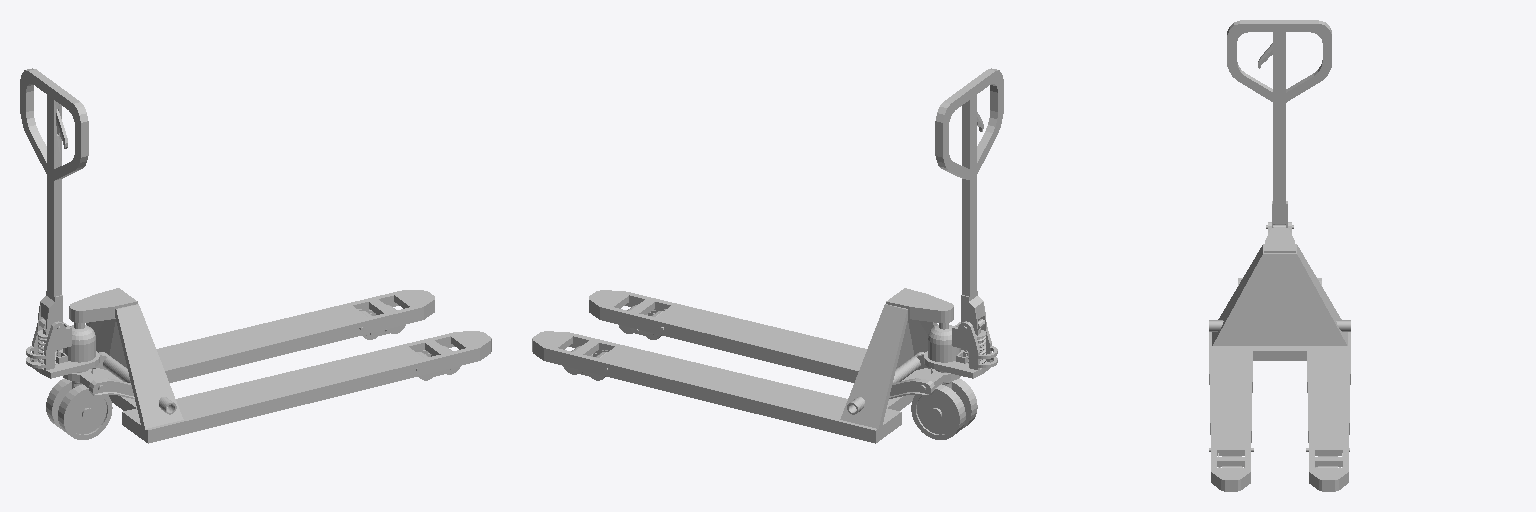
robot.urdf — pallet_truck:
<robot name="pallet_truck" version="1.0">
  <link name="base_link">
    <collision name="pallet_truck_lp_collision">
      <origin rpy="0.00000 0.00000 0.00000" xyz="-0.01780 -0.00204 0.61228"/>
      <geometry>
        <box size="1.48821 0.49089 1.19758"/>
      </geometry>
    </collision>
    <inertial>
      <inertia ixx="4.18793" ixy="-0.00000" ixz="0.00000" iyy="9.12244" iyz="0.00000" izz="6.13940"/>
      <origin rpy="0.00000 0.00000 0.00000" xyz="-0.01780 -0.00204 0.61228"/>
      <mass value="30.00000"/>
    </inertial>
    <visual name="pallet_truck_lp">
      <material name="Material.001"/>
      <origin rpy="0.00000 0.00000 0.00000" xyz="0.00000 0.00000 0.00000"/>
      <geometry>
        <mesh filename="package://pallet_truck_description/meshes/dae/Cube.025.dae" scale="1 1 1"/>
      </geometry>
    </visual>
  </link>
  <material name="Material.001">
    <texture filename="package://pallet_truck_description/../../04_Pallet/textures/Pallettruck_A.png"/>
    <color rgba="0.80000 0.80000 0.80000 1.00000"/>
  </material>
</robot>

--- What the picture shows (computed from the rendered views, not written in the file) ---
3 views of the same robot in one strip: view 1: azimuth 30°, elevation 25°; view 2: azimuth 150°, elevation 25°; view 3: azimuth 270°, elevation 25° (orthographic).
Robot: pallet_truck — 1 links, 0 joints (none); root link base_link; default pose: all joints at 0.
Links seen in each view (by area): view 1: base_link; view 2: base_link; view 3: base_link.
Boxes of the visible links, <box> form: base_link: <box>20,68,491,443</box>; base_link: <box>532,68,1003,443</box>; base_link: <box>1209,20,1350,491</box>.
Size in the robot's own frame: 1.52 by 0.5 by 1.19 metres.
Meshes: 1 distinct files referenced, 1 mesh visuals loaded (1 Collada DAE).
